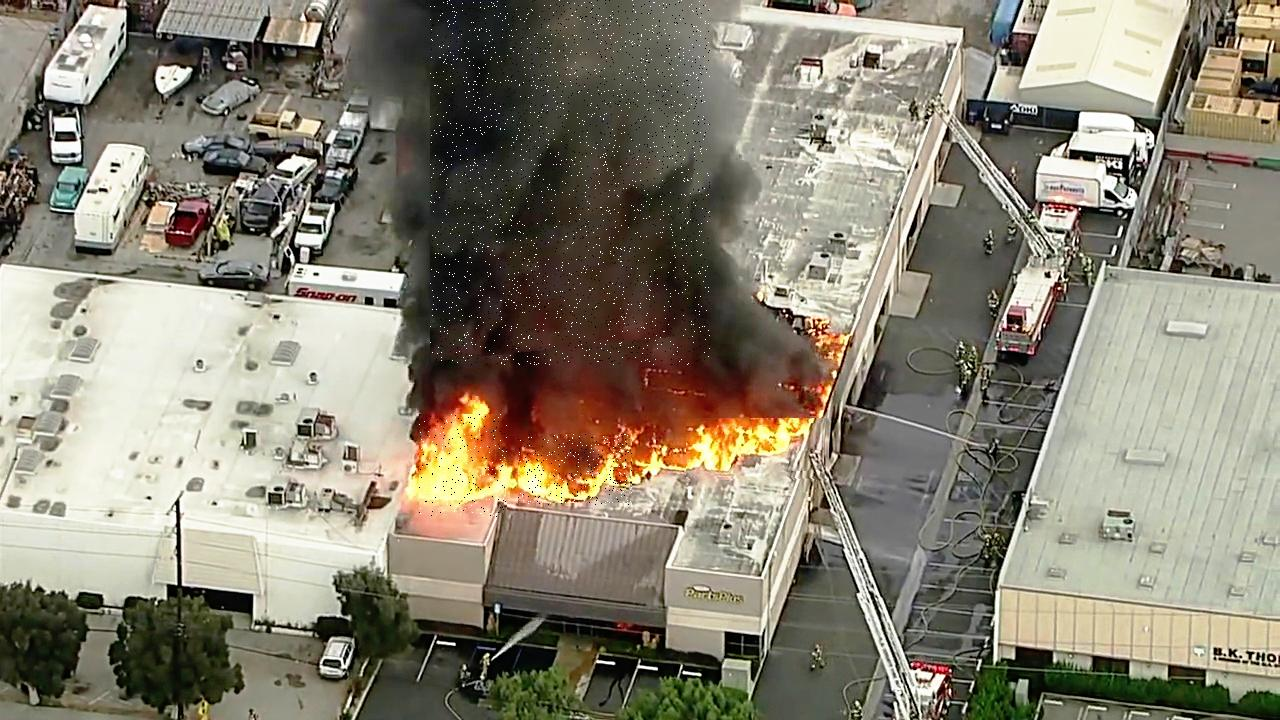fire: (419, 415, 507, 518), (687, 419, 829, 480), (518, 435, 632, 506)
smoke: (430, 0, 710, 365)
